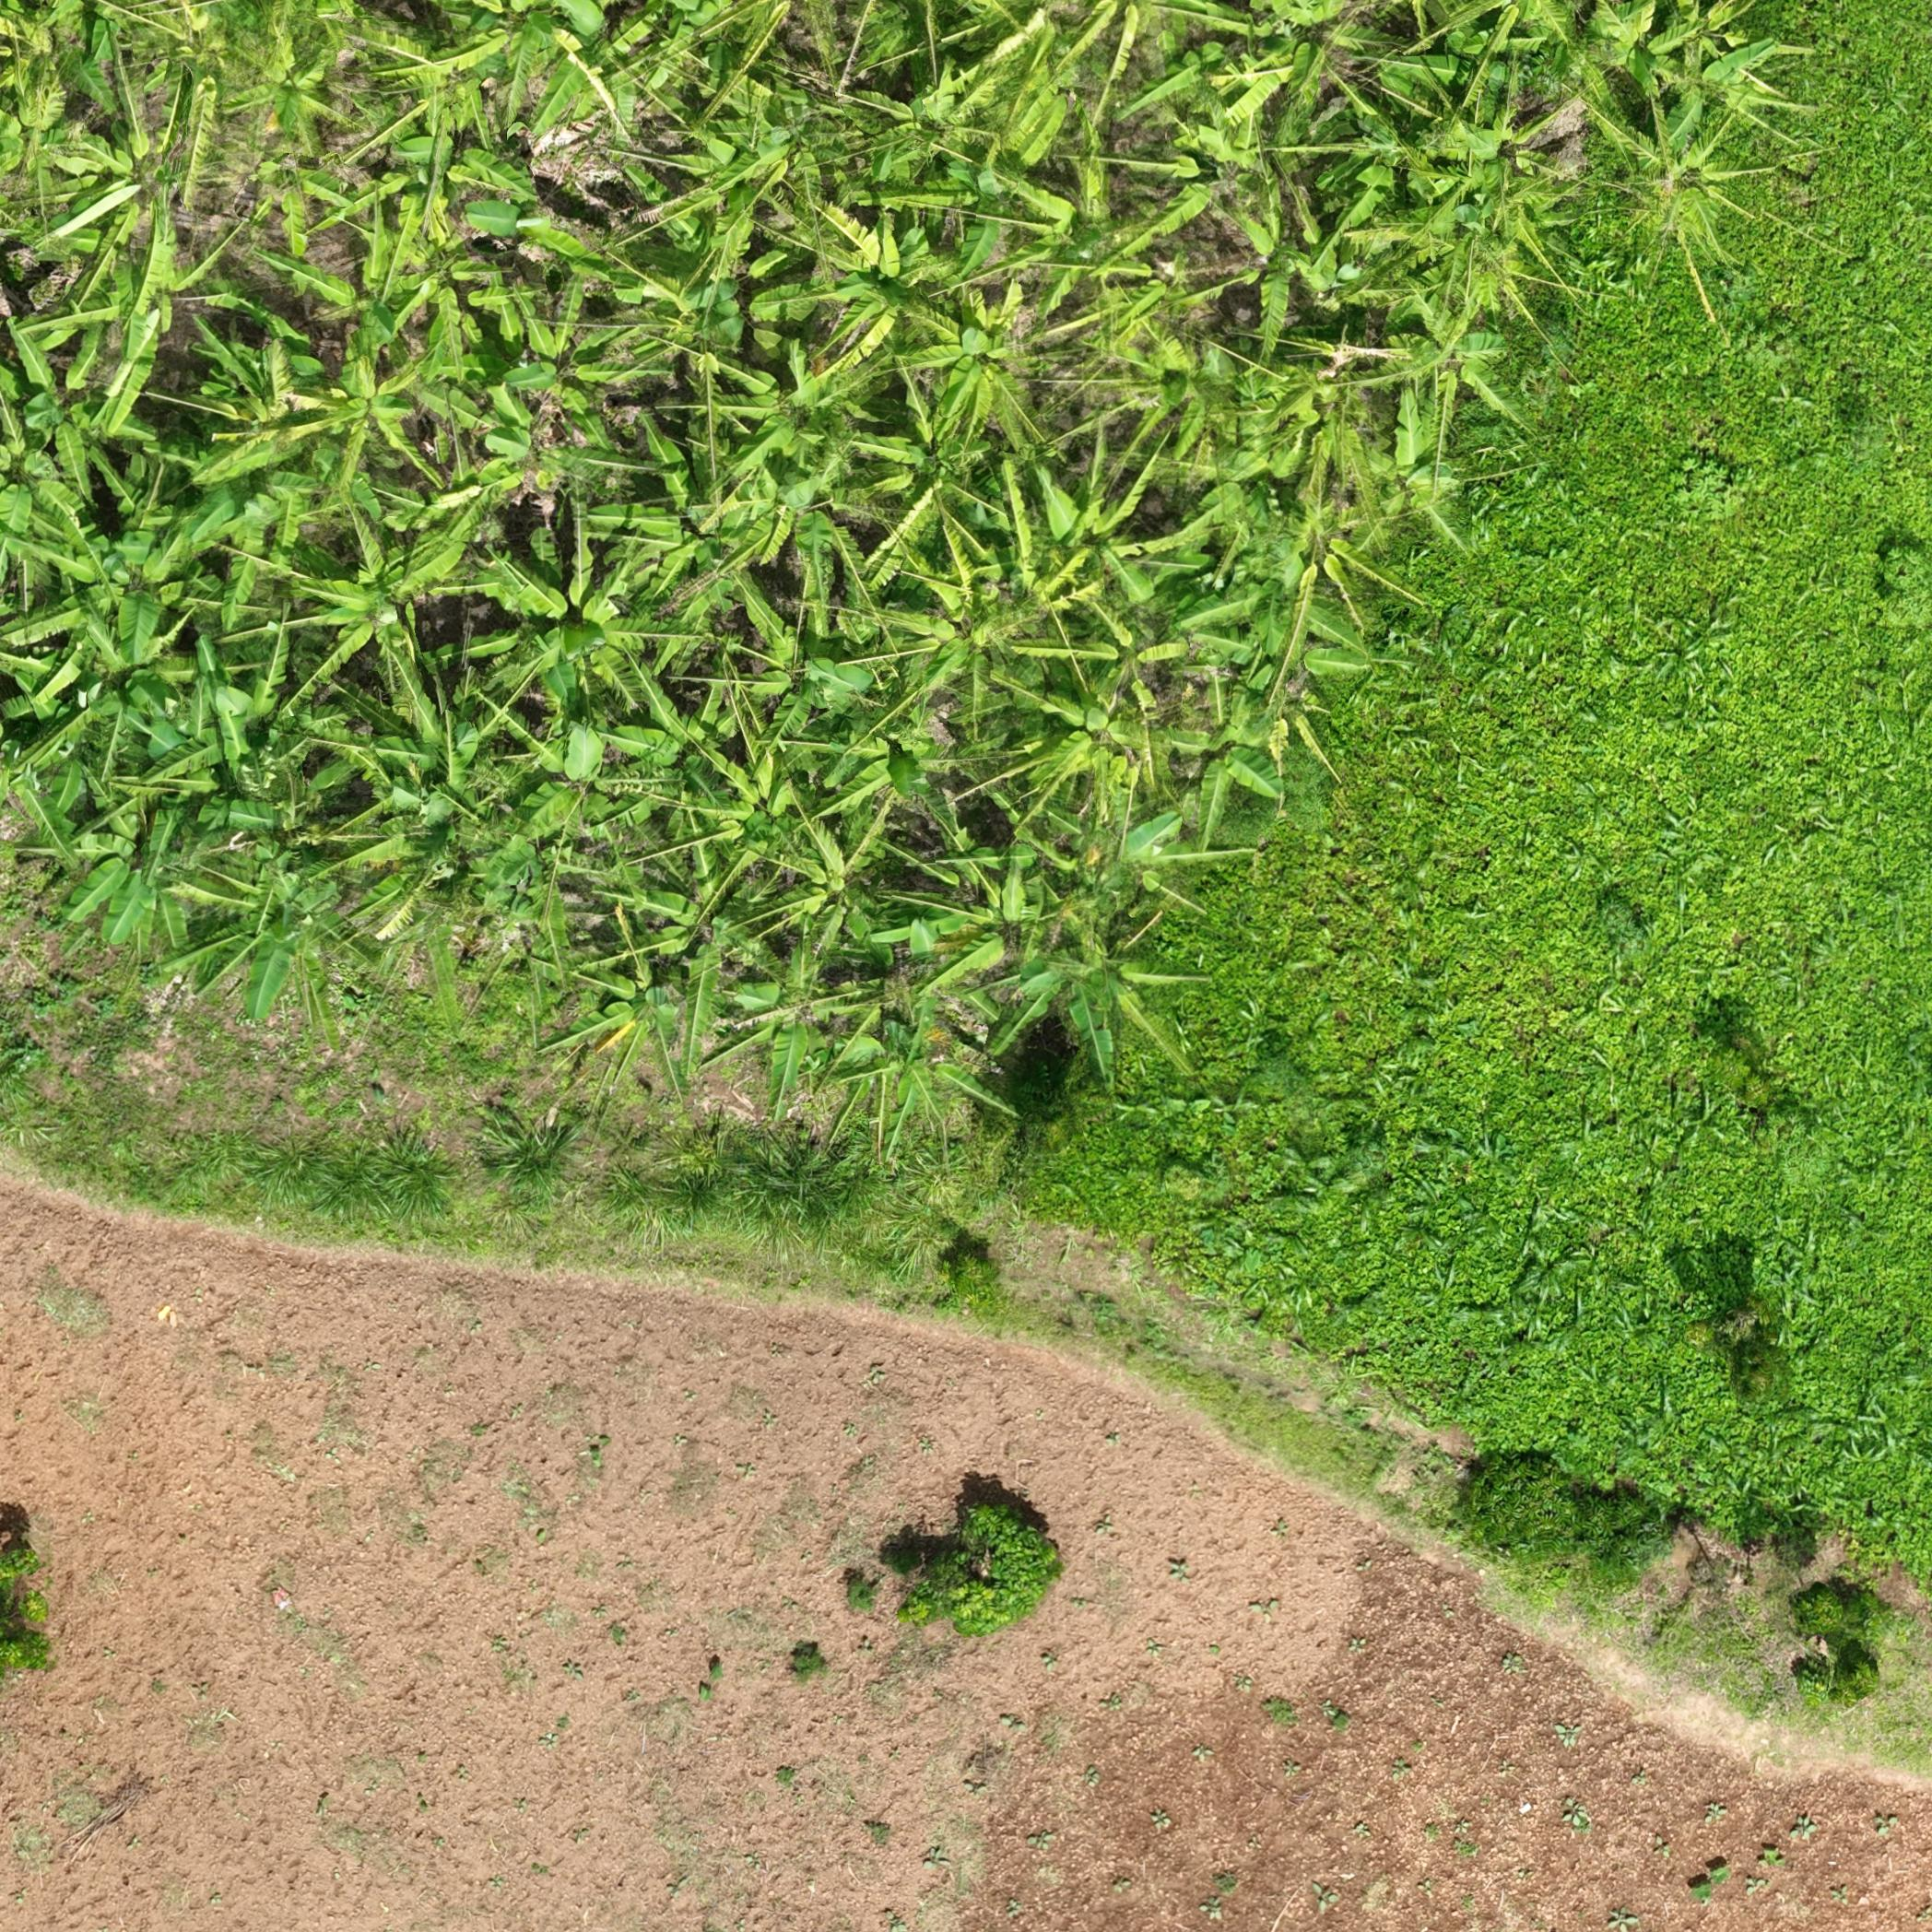Banana: (476, 504, 701, 722), (9, 501, 271, 646), (9, 764, 200, 954), (27, 62, 207, 262), (1178, 568, 1382, 745), (895, 541, 1095, 720), (637, 110, 865, 265), (534, 925, 731, 1099), (1203, 357, 1389, 533), (685, 341, 890, 494), (895, 796, 1077, 966), (161, 651, 347, 812), (350, 715, 545, 867), (1033, 432, 1200, 609), (713, 918, 855, 1123), (987, 938, 1210, 1067), (1069, 281, 1224, 458), (290, 517, 462, 669), (451, 5, 655, 127), (791, 195, 957, 343), (916, 78, 1083, 226), (257, 239, 481, 349), (1313, 57, 1422, 276), (839, 1007, 1007, 1143), (292, 352, 449, 494), (1157, 51, 1297, 211), (899, 295, 1044, 448), (7, 294, 119, 490), (1601, 97, 1750, 230), (708, 715, 821, 865), (479, 281, 602, 414)
